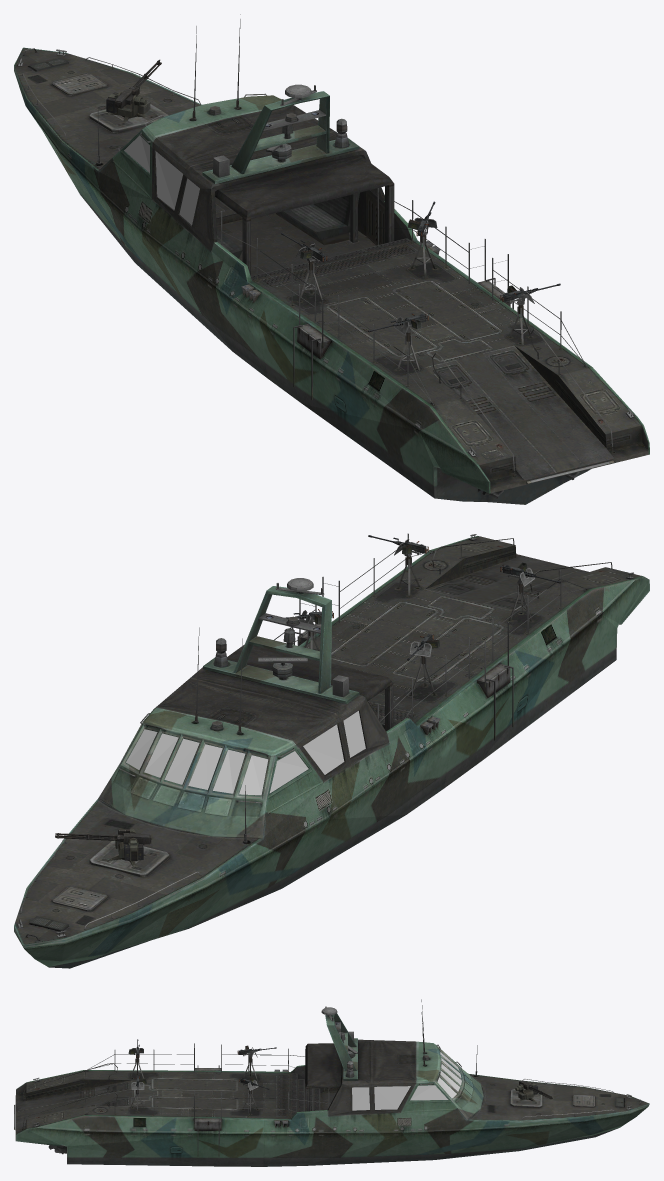
File: Patrolboat.obj
The picture shows the model from 3 angles, top to bottom: view 1: azimuth 30°, elevation 25°; view 2: azimuth 150°, elevation 25°; view 3: azimuth 270°, elevation 25°; orthographic projection. The views are drawn at different scales.
Parts seen in each view (by area): view 1: DrawCall_0677, DrawCall_0861; view 2: DrawCall_0677, DrawCall_0861; view 3: DrawCall_0677, DrawCall_0861.
Part boxes in pixels (left/top/right/bottom): DrawCall_0677: left=14, top=14, right=649, bottom=504; DrawCall_0861: left=124, top=135, right=199, bottom=225; DrawCall_0677: left=14, top=533, right=649, bottom=968; DrawCall_0861: left=126, top=711, right=365, bottom=795; DrawCall_0677: left=14, top=999, right=649, bottom=1166; DrawCall_0861: left=352, top=1052, right=461, bottom=1110.
Bounding box in the file's own units: 5.32 × 6.81 × 25.06.
